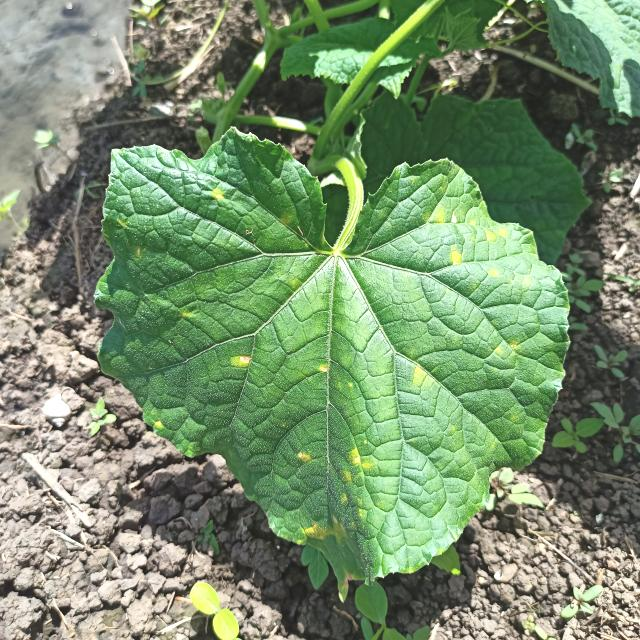disease_cucumber: (296, 445, 372, 545), (428, 210, 508, 280), (228, 352, 253, 368), (411, 363, 428, 384), (314, 362, 333, 376), (212, 190, 225, 202)
